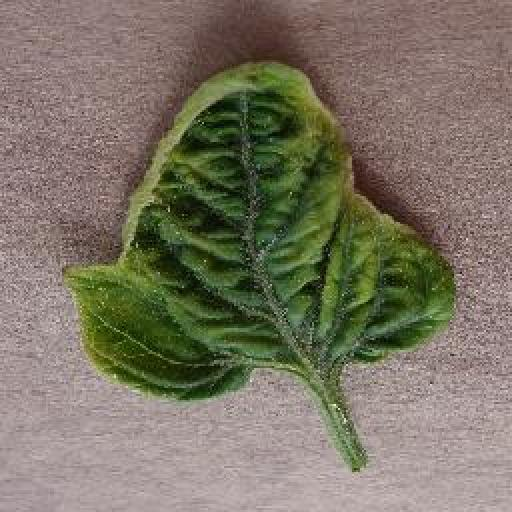Yellow Leaf Curl Virus: (59, 59, 456, 401)
